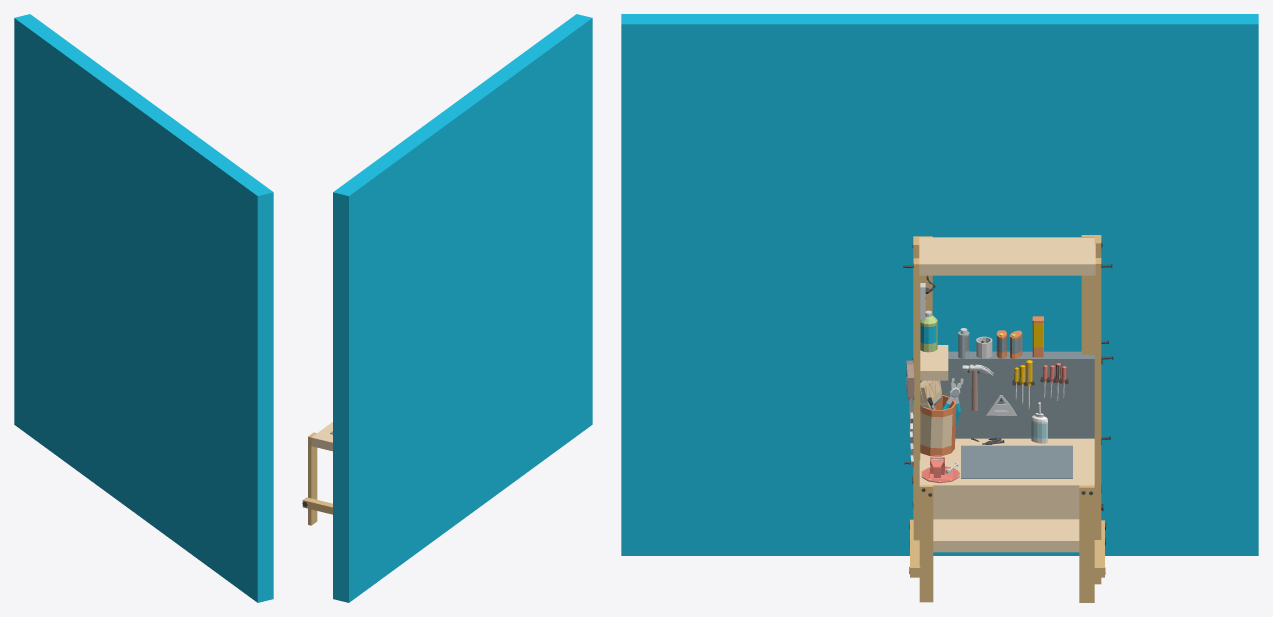
The model's file is workbench.glb.
3 renders of one model, left to right at view 1: azimuth 30°, elevation 25°; view 2: azimuth 150°, elevation 25°; view 3: azimuth 270°, elevation 25°, orthographic. The views are drawn at different scales.
Visible parts, largest first — view 1: mesh_842669376; view 2: mesh_842669376, mesh_1136637025, mesh_180694184; view 3: mesh_842669376, mesh_1673330486, mesh_1611064048, mesh_562244686, mesh_180694184, mesh_325414035, mesh_510674860, mesh_1670466778, mesh_1897253990, mesh_1136637025, group_693825468, mesh_634005764 (+2 smaller).
Boxes of the visible parts, <box> form: mesh_842669376: <box>14,14,273,602</box>; mesh_842669376: <box>333,14,592,602</box>; mesh_1136637025: <box>308,432,317,525</box>; mesh_180694184: <box>311,422,332,451</box>; mesh_842669376: <box>621,14,1258,555</box>; mesh_1673330486: <box>920,351,1094,438</box>; mesh_1611064048: <box>919,237,1095,275</box>; mesh_562244686: <box>933,519,1079,552</box>; mesh_180694184: <box>919,438,1094,496</box>; mesh_325414035: <box>961,445,1072,478</box>; mesh_510674860: <box>933,496,1079,519</box>; mesh_1670466778: <box>1094,258,1101,584</box>; mesh_1897253990: <box>913,258,920,540</box>; mesh_1136637025: <box>1079,485,1094,602</box>; group_693825468: <box>920,395,956,456</box>; mesh_634005764: <box>919,485,933,602</box>.
Size of the model in its own units: 122 by 452 by 490.
